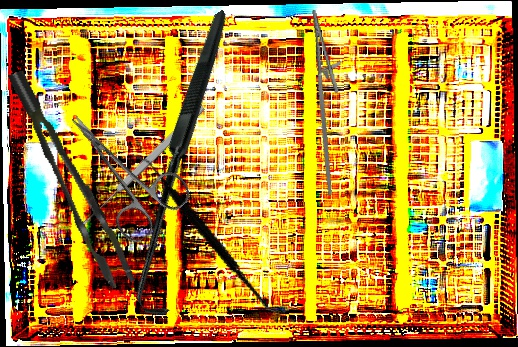Hook Surgical: (29, 9, 346, 323)
Iris Scissors: (45, 89, 196, 248)
Needle Holder: (289, 6, 369, 196)
Spatula Surgical: (100, 151, 318, 316)
Surgical Spoon: (78, 103, 207, 229)
Tissue Forceps: (8, 58, 135, 298)
